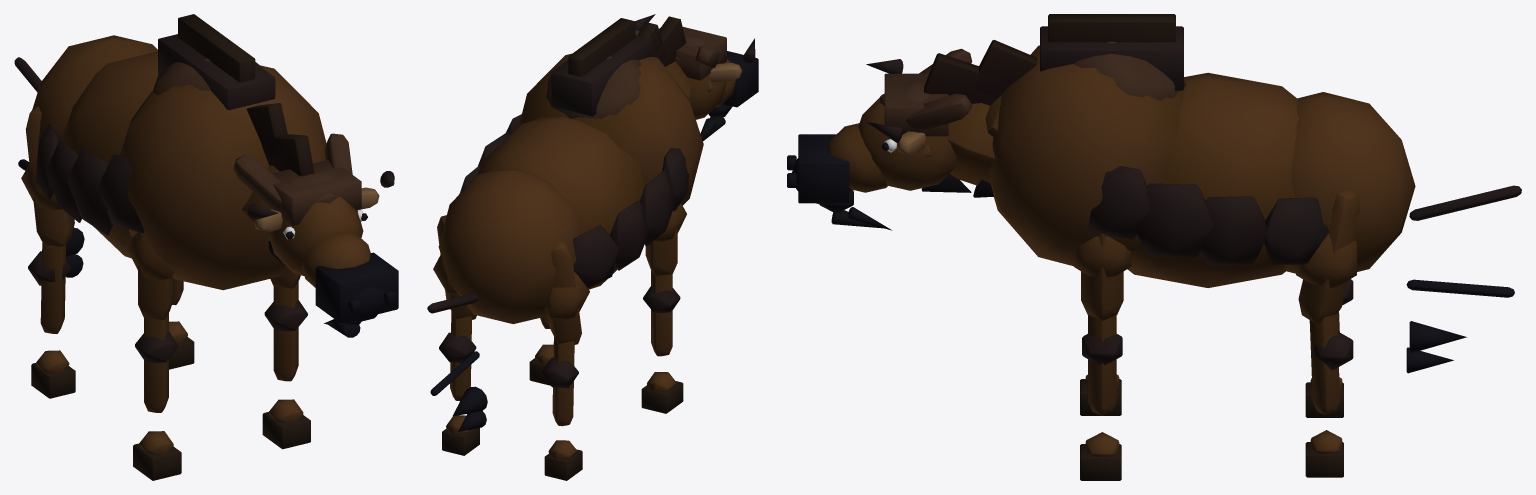
Rendered from wildebeest.glb.
3 renders of one model, left to right at view 1: azimuth 30°, elevation 25°; view 2: azimuth 150°, elevation 25°; view 3: azimuth 270°, elevation 25°, orthographic. The views are drawn at different scales.
Parts seen in each view (by area): view 1: wildebeest; view 2: wildebeest; view 3: wildebeest.
Boxes of the visible parts, left/top/right/bottom form: wildebeest: left=14, top=14, right=398, bottom=480; wildebeest: left=427, top=14, right=758, bottom=480; wildebeest: left=787, top=14, right=1521, bottom=480.
Size of the model in its own units: 0.7692 by 1.46 by 2.3.
